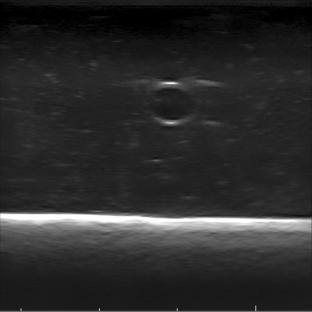vessel: (144, 80, 198, 126)
